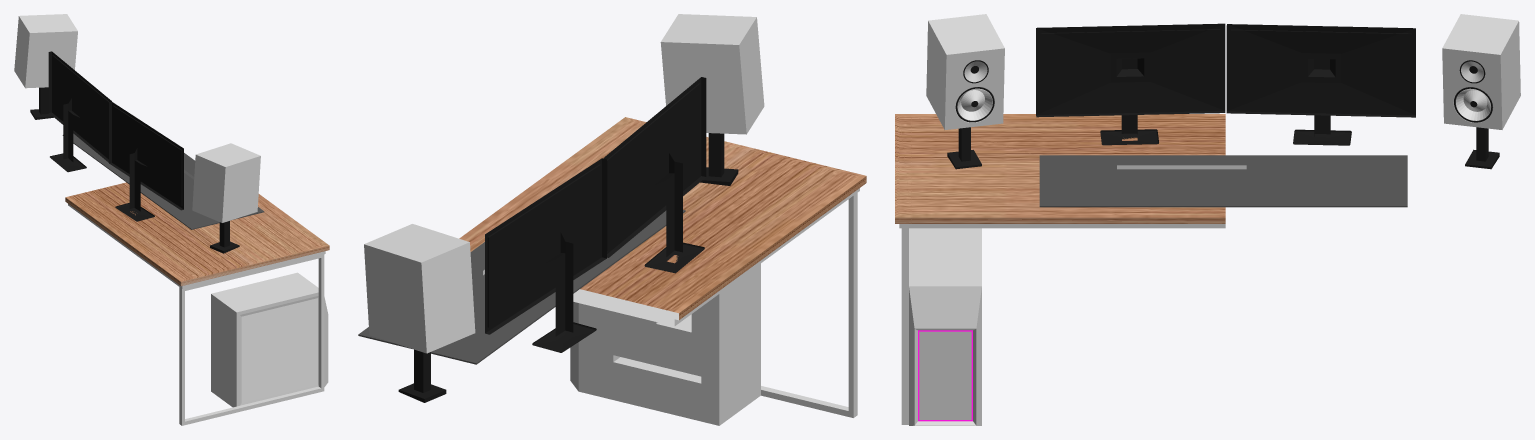
File: desktop.glb
The picture shows the model from 3 angles, left to right: view 1: azimuth 30°, elevation 25°; view 2: azimuth 150°, elevation 25°; view 3: azimuth 270°, elevation 25°; orthographic projection. The views are drawn at different scales.
Parts seen in each view (by area): view 1: Cube.004, Cube.006, Cube.009, Cube.011, Cube.007, Cube.010, Cube.008; view 2: Cube.004, Cube.006, Cube.007, Cube.010, Cube.009, Cube.011, Cube.008; view 3: Cube.004, Cube.008, Cube.007, Cube.009, Cube.006, Cube.010, Cube.011, Cube.012.
Part boxes in pixels (box(x1,y1,x2,y2)): Cube.004: box(65, 182, 329, 425); Cube.006: box(211, 272, 328, 407); Cube.009: box(109, 101, 183, 221); Cube.011: box(192, 143, 260, 253); Cube.007: box(48, 51, 111, 172); Cube.010: box(14, 14, 77, 119); Cube.008: box(62, 133, 264, 229); Cube.004: box(459, 117, 866, 417); Cube.006: box(570, 263, 760, 425); Cube.007: box(485, 158, 606, 352); Cube.010: box(364, 224, 475, 402); Cube.009: box(603, 77, 706, 273); Cube.011: box(660, 14, 764, 185); Cube.008: box(358, 210, 685, 364); Cube.004: box(895, 114, 1225, 424); Cube.008: box(1039, 155, 1407, 207); Cube.007: box(1226, 24, 1415, 145); Cube.009: box(1036, 23, 1225, 145); Cube.006: box(909, 228, 981, 425); Cube.010: box(1442, 14, 1520, 169); Cube.011: box(926, 14, 1004, 169); Cube.012: box(1117, 165, 1246, 169).
Bounding box in the file's own units: 1.65 × 2.45 × 4.07.
9 materials, 1 textured.
